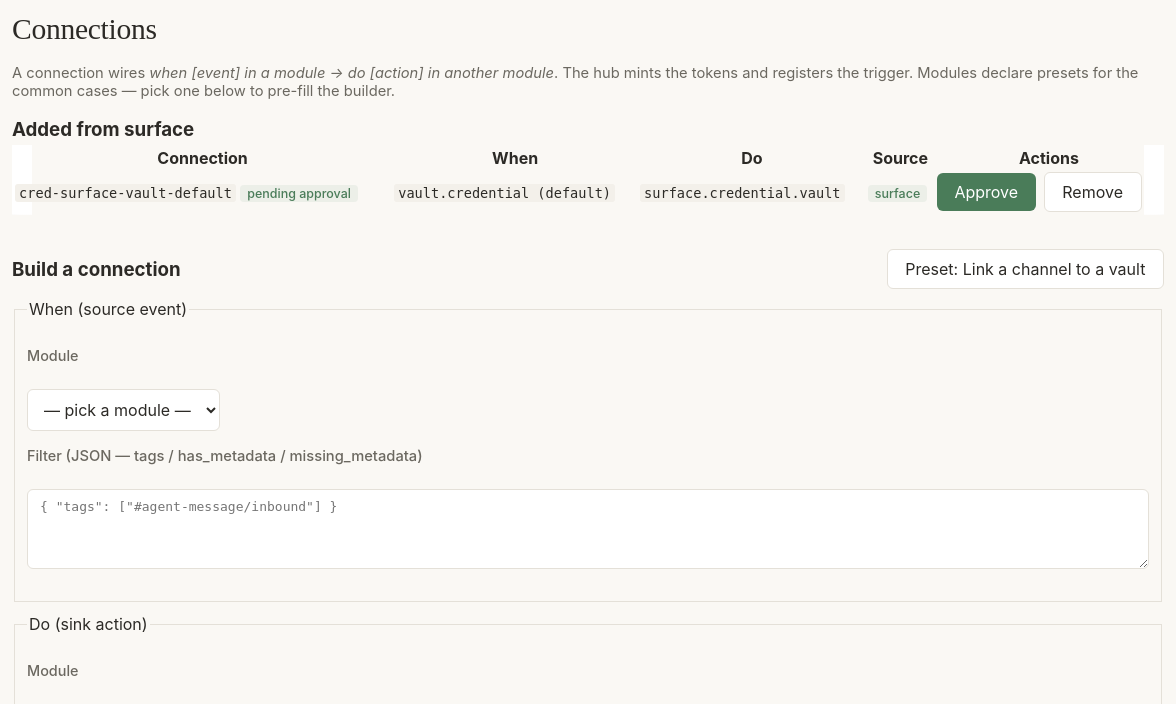
Scenario: Connections — pending credential claims (surface#113) › surfaces an approve failure on the row
Click the button with test id "approve-connection" at (986, 192), box x1=937 y1=173 x2=1036 y2=211
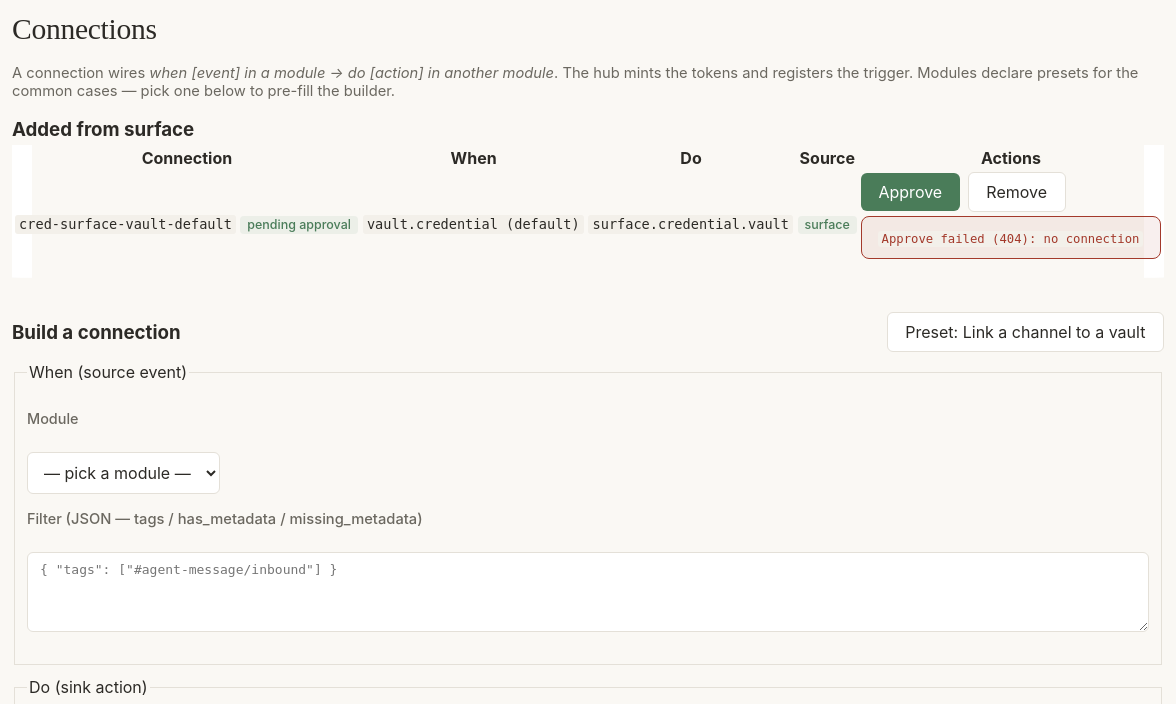
Expected: the text "pending approval" is shown, x1=240 y1=216 x2=358 y2=234
Expected: the text "Approve failed (404): no connection" is shown, x1=878 y1=231 x2=1143 y2=247
